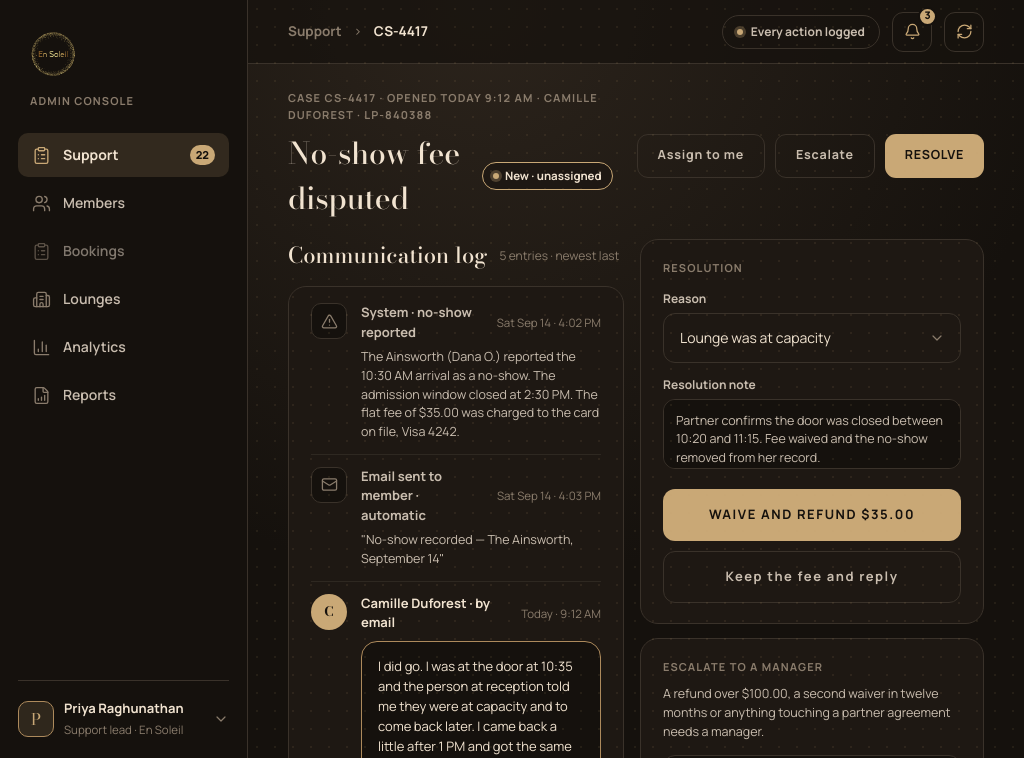
Test: Case detail (/admin/support/[id]) › opens the refund modal from Waive and refund
The image size is (1024, 758).
Click the button "Waive and refund $35.00": (812, 514) 663,488 -> 961,540
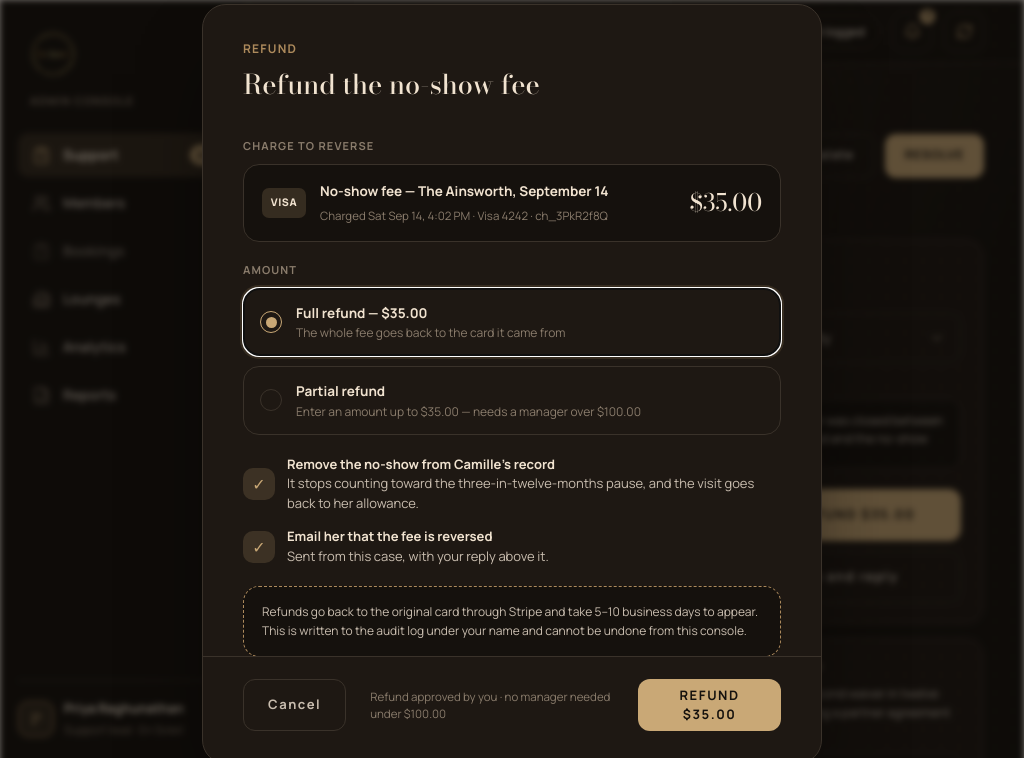
Expected: the heading "Refund the no-show fee" is shown, 243,64 -> 540,105
